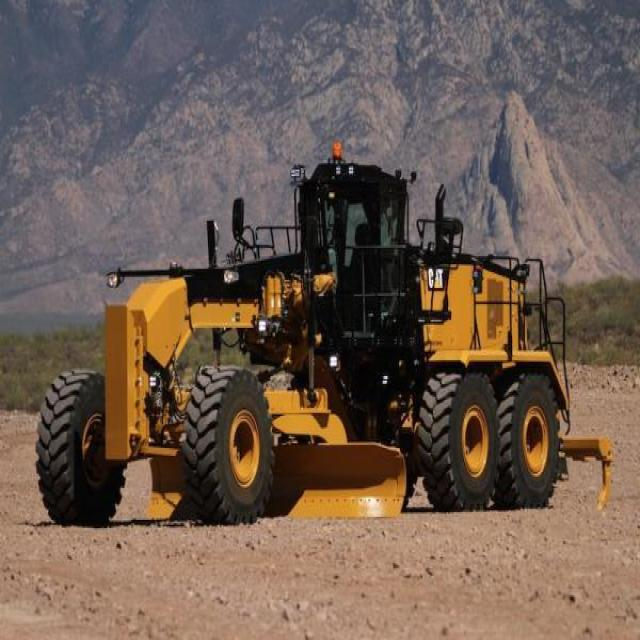Grader: (38, 149, 616, 523)
